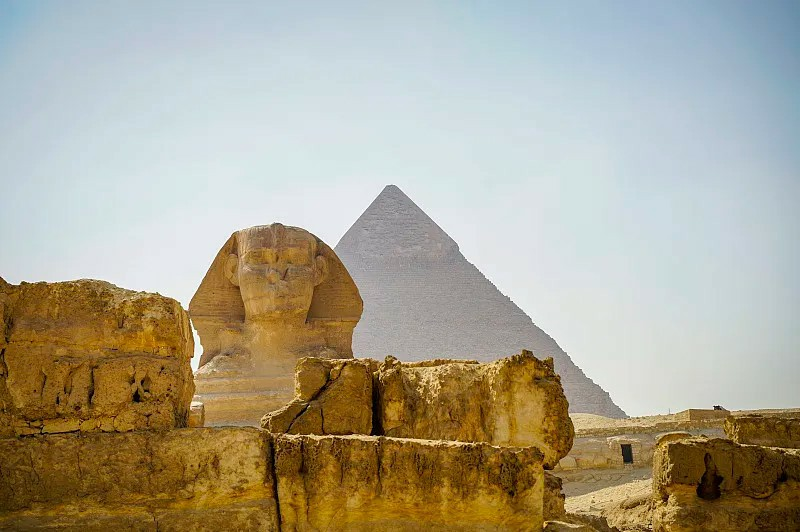Pyramid: (332, 184, 629, 419)
